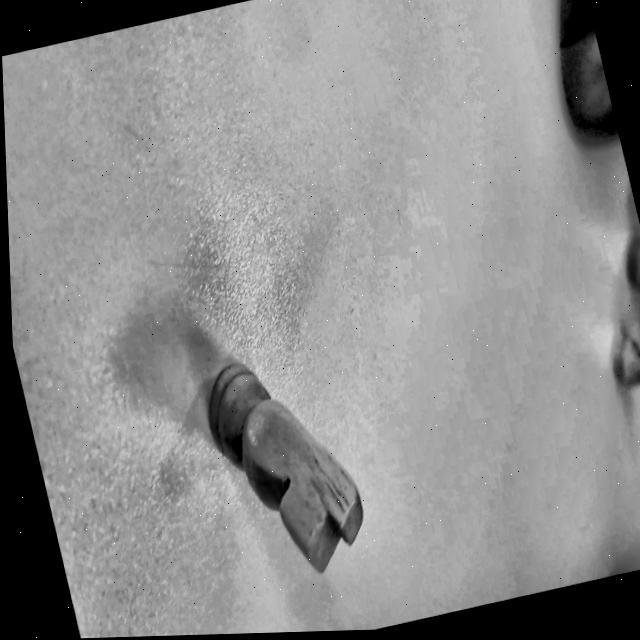white-knight: (170, 295, 391, 635)
